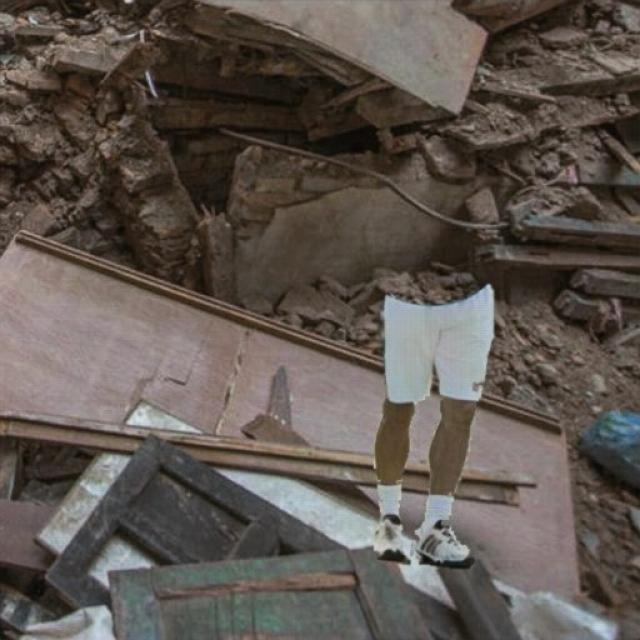Person in Rubble: (373, 284, 492, 568)
